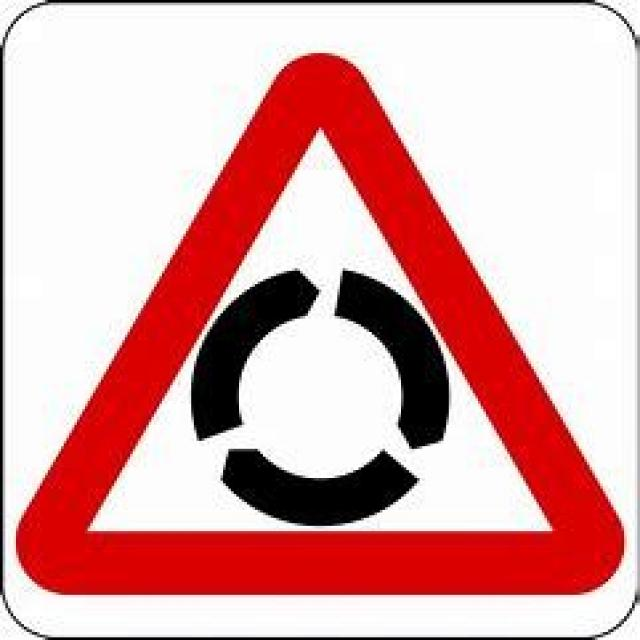ROUNDABOUT: (11, 50, 624, 595)
